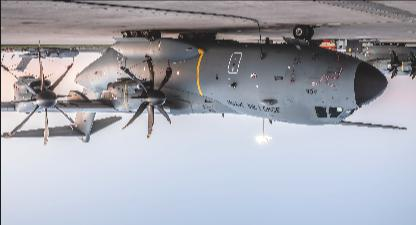A400M: (1, 24, 406, 146), (341, 42, 415, 80)
C2: (1, 48, 77, 72)
